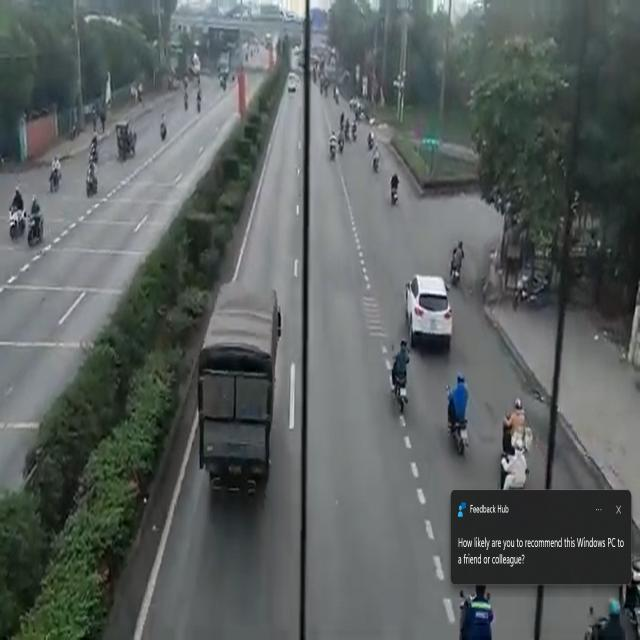car: (406, 267, 450, 343)
motor: (442, 368, 470, 451), (388, 331, 411, 423), (448, 236, 469, 290), (26, 198, 42, 251), (7, 188, 22, 243), (496, 404, 512, 451)
truck: (204, 275, 274, 497)
